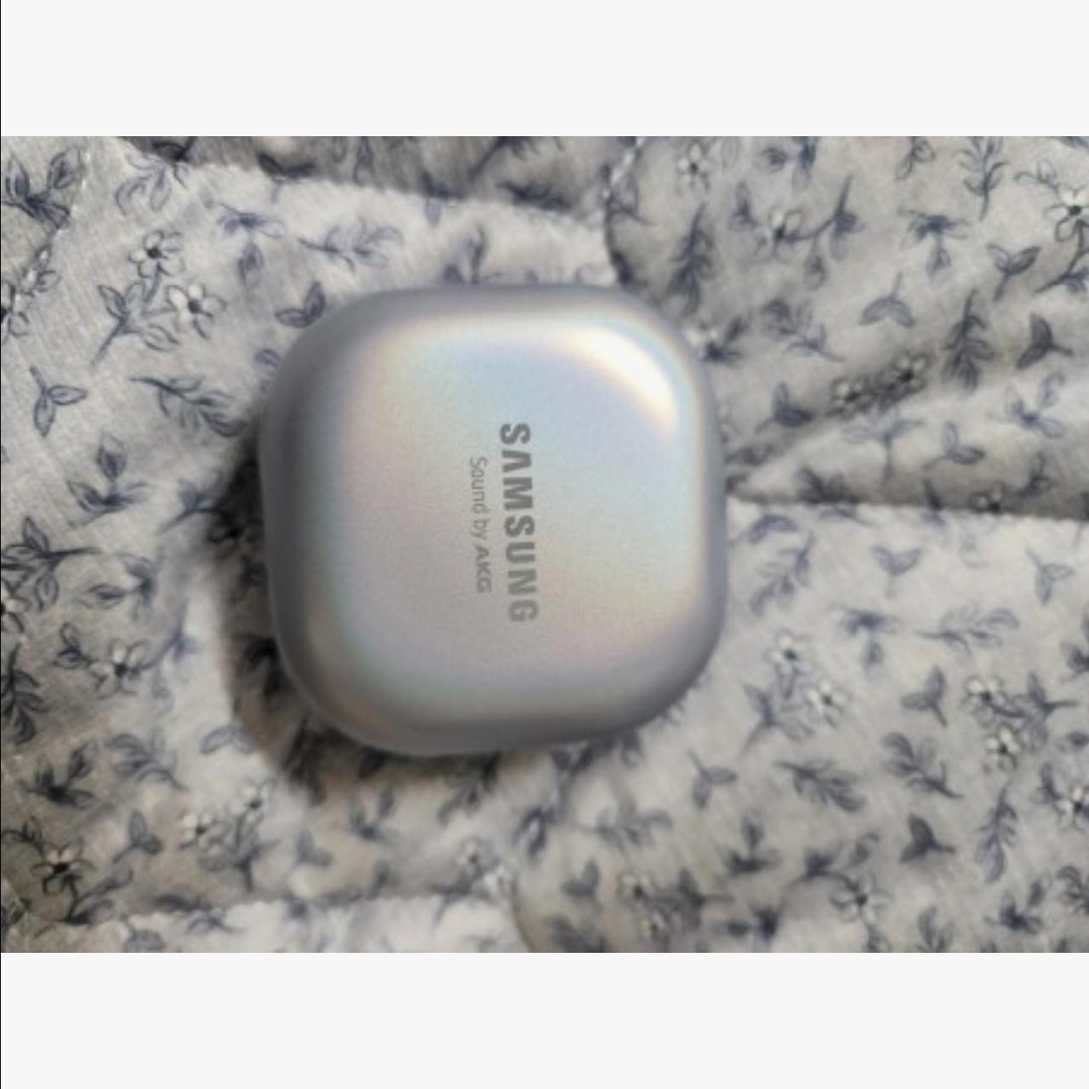Buds: (254, 274, 728, 769)
